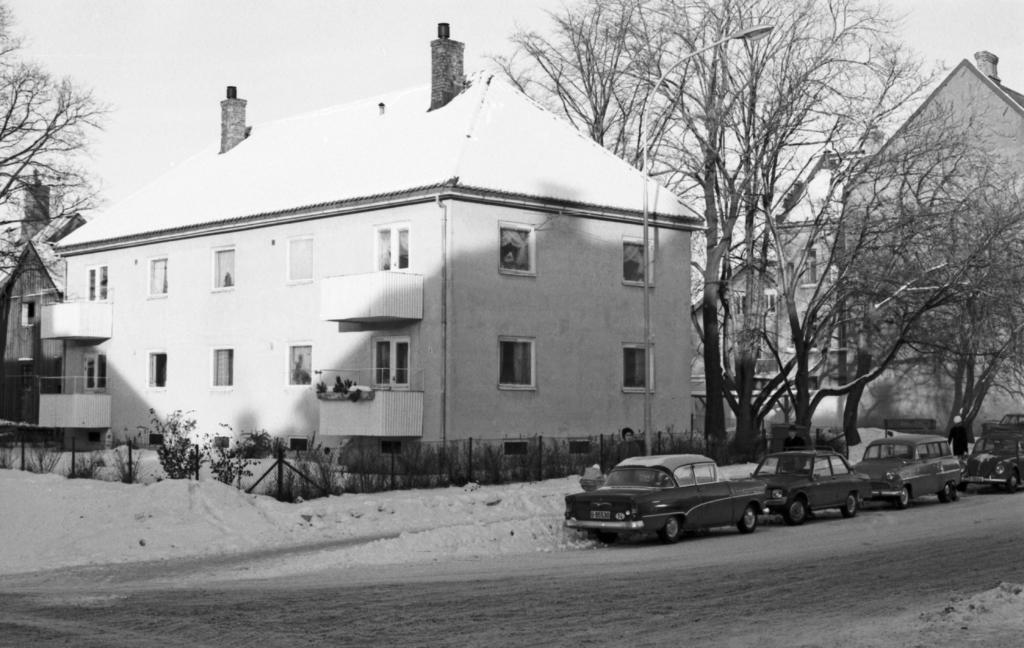Car: (568, 455, 762, 548), (755, 448, 874, 518), (858, 431, 967, 498), (972, 417, 1023, 491)
